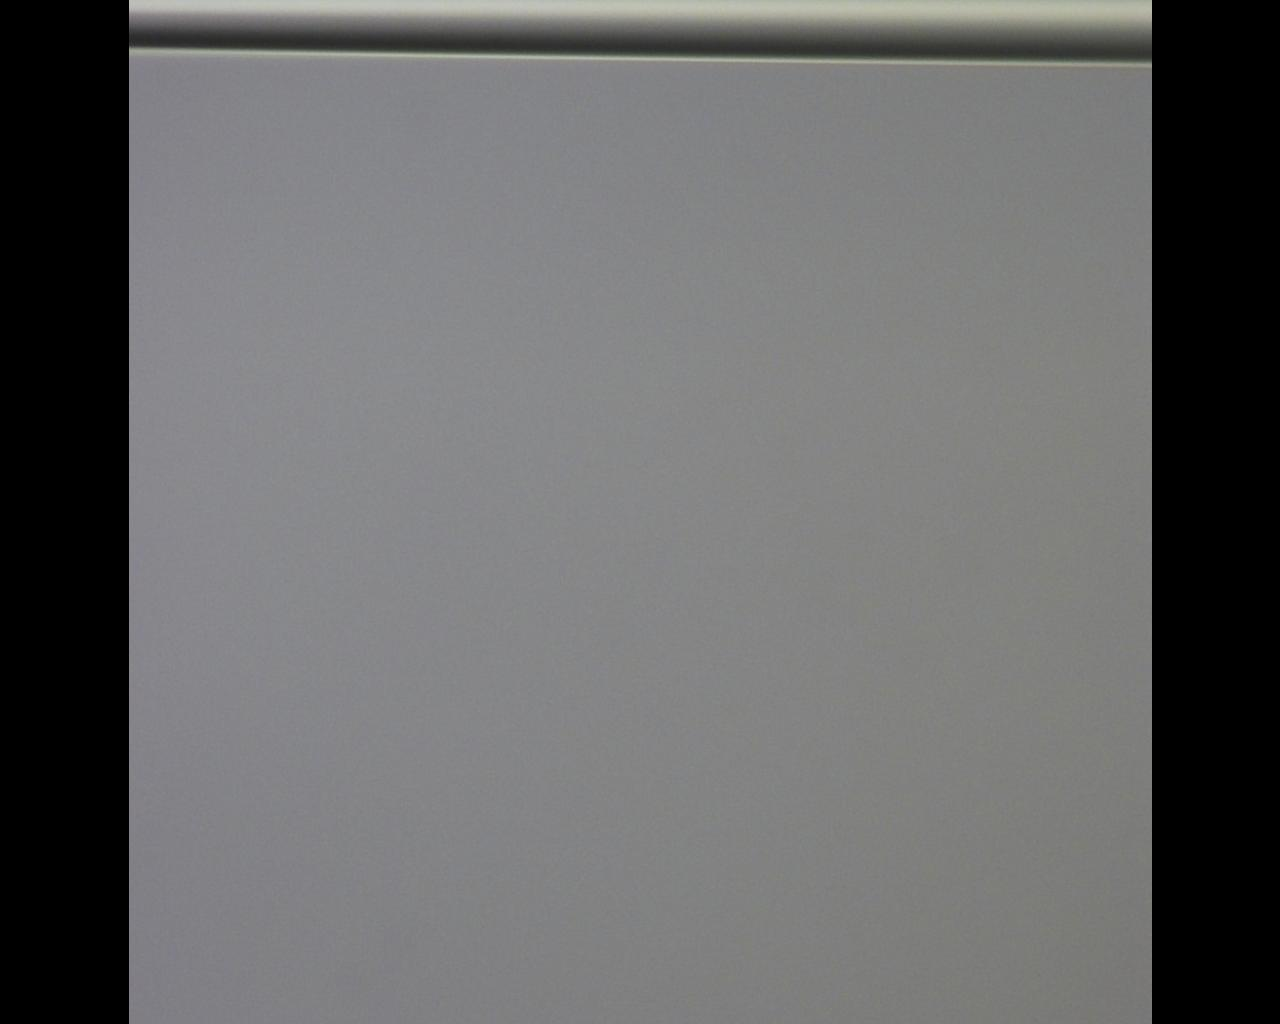fiber: (550, 836, 1280, 1024), (1082, 0, 1251, 634), (52, 634, 269, 1024)
